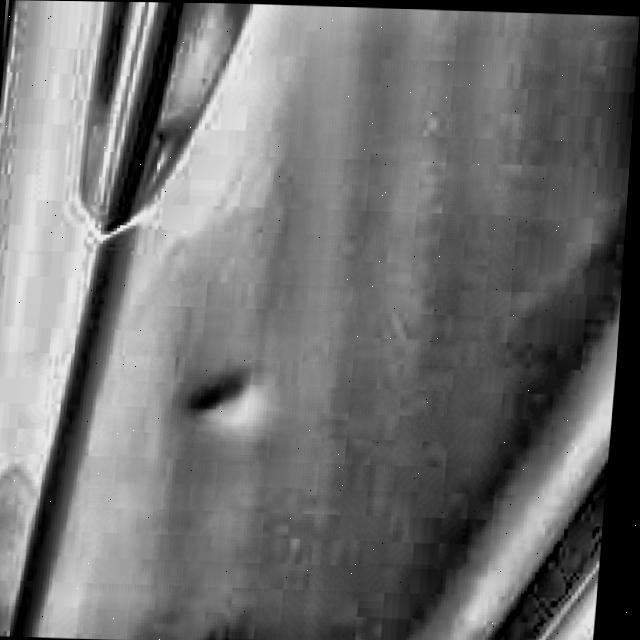door_dent: (186, 371, 260, 423)
